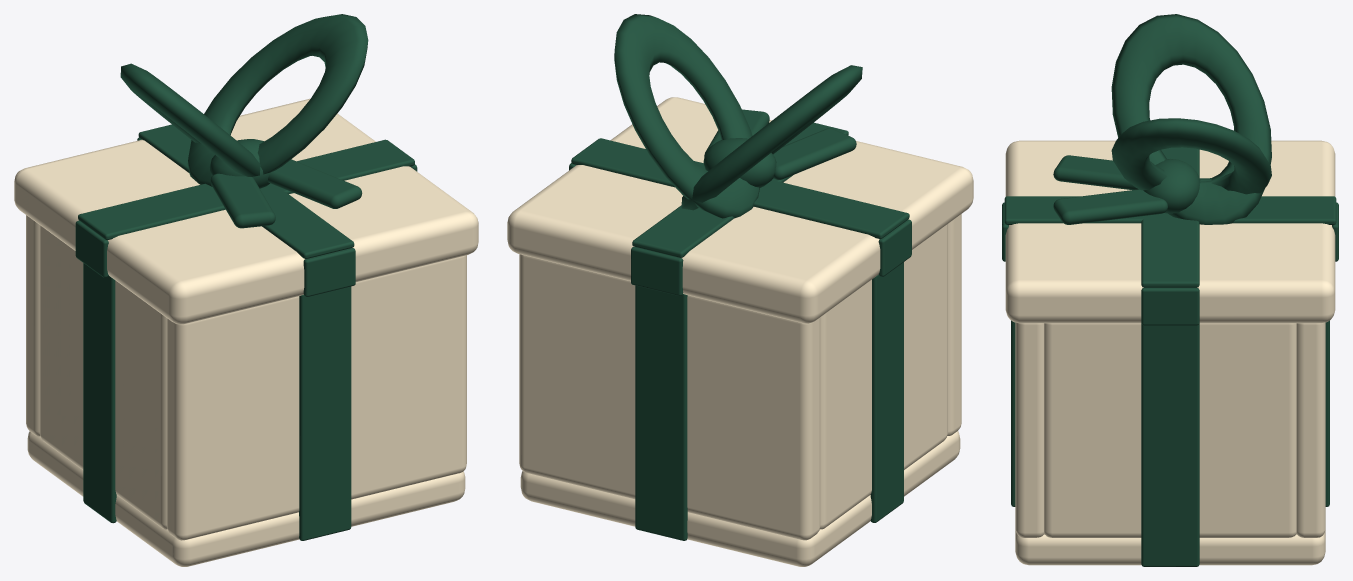
The model's file is gift-classic-2.glb.
3 renders of one model, left to right at view 1: azimuth 30°, elevation 25°; view 2: azimuth 150°, elevation 25°; view 3: azimuth 270°, elevation 25°, orthographic.
Parts seen in each view (by area): view 1: Gift_Body, Gift_Lid, Gift_Bow_Loop_R, Gift_Bow, Gift_Bow_Loop_L; view 2: Gift_Body, Gift_Lid, Gift_Bow_Loop_R, Gift_Bow_Loop_L, Gift_Bow; view 3: Gift_Body, Gift_Lid, Gift_Bow_Loop_L, Gift_Bow_Loop_R, Gift_Bow.
Part boxes in pixels (x1=…): Gift_Body: x1=26, y1=215, x2=466, y2=566; Gift_Lid: x1=14, y1=98, x2=478, y2=324; Gift_Bow_Loop_R: x1=187, y1=14, x2=368, y2=186; Gift_Bow: x1=209, y1=139, x2=362, y2=228; Gift_Bow_Loop_L: x1=120, y1=63, x2=260, y2=176; Gift_Body: x1=519, y1=214, x2=961, y2=566; Gift_Lid: x1=507, y1=97, x2=973, y2=323; Gift_Bow_Loop_R: x1=614, y1=14, x2=759, y2=218; Gift_Bow_Loop_L: x1=681, y1=65, x2=862, y2=210; Gift_Bow: x1=703, y1=109, x2=856, y2=188; Gift_Body: x1=1011, y1=320, x2=1329, y2=566; Gift_Lid: x1=1002, y1=140, x2=1338, y2=325; Gift_Bow_Loop_L: x1=1111, y1=14, x2=1271, y2=224; Gift_Bow_Loop_R: x1=1111, y1=118, x2=1271, y2=194; Gift_Bow: x1=1053, y1=155, x2=1200, y2=224.
Size of the model in its own units: 0.928 by 1.23 by 0.868.
